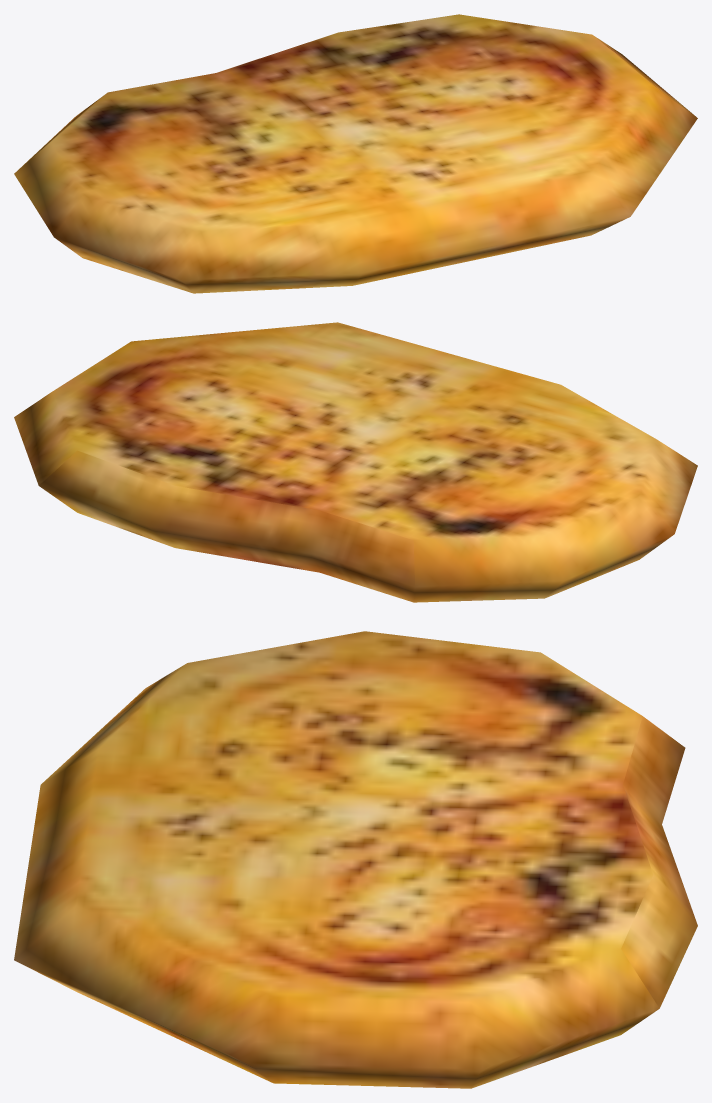
File: Bread_02.dae
The picture shows the model from 3 angles, top to bottom: view 1: azimuth 30°, elevation 25°; view 2: azimuth 150°, elevation 25°; view 3: azimuth 270°, elevation 25°; orthographic projection. The views are drawn at different scales.
Parts seen in each view (by area): view 1: Bread_02; view 2: Bread_02; view 3: Bread_02.
Part boxes in pixels (x1,y1,x2,y2): Bread_02: (14, 14, 697, 293); Bread_02: (14, 322, 697, 602); Bread_02: (14, 631, 697, 1088).
Size of the model in its own units: 0.1587 by 0.1102 by 0.0153.
Materials: 1 (1 with a texture image).
